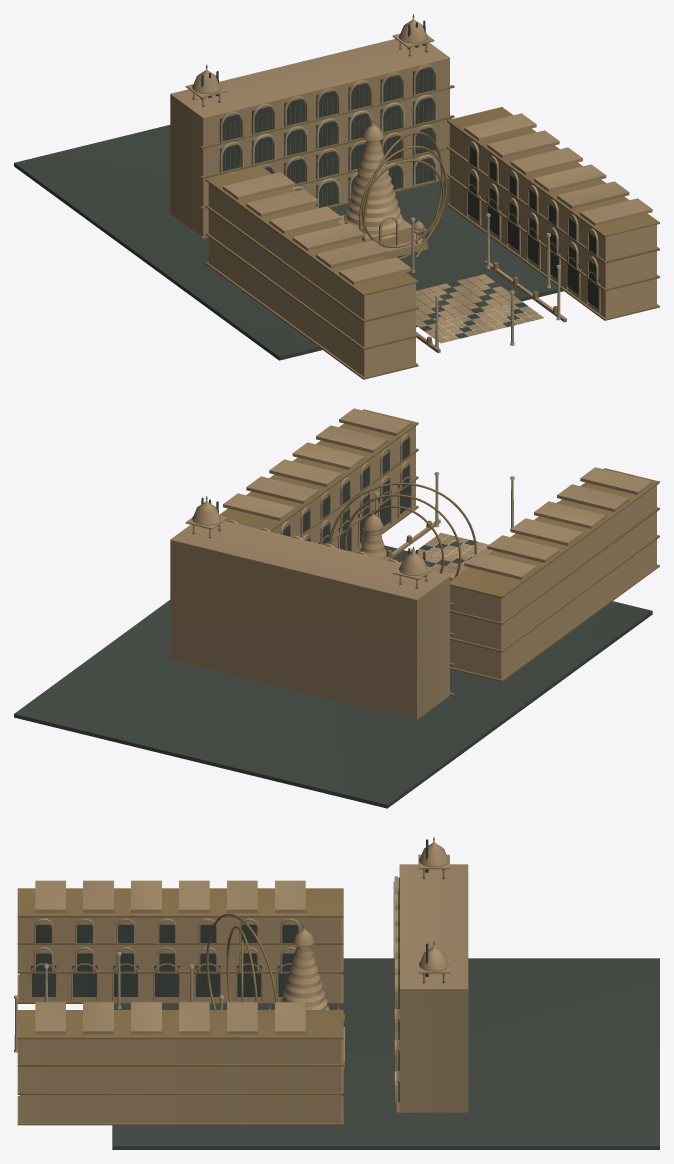
The model's file is arena-30.glb.
The picture shows the model from 3 angles, top to bottom: view 1: azimuth 30°, elevation 25°; view 2: azimuth 150°, elevation 25°; view 3: azimuth 270°, elevation 25°; orthographic projection. The views are drawn at different scales.
Parts seen in each view (by area): view 1: correction-sand, correction-dark, correction-bronze, correction-plaster; view 2: correction-sand, correction-dark, correction-bronze; view 3: correction-sand, correction-dark, correction-bronze, correction-plaster.
Part boxes in pixels (<box>): correction-sand: <box>170,17,656,376</box>; correction-dark: <box>14,20,599,360</box>; correction-bronze: <box>192,14,659,379</box>; correction-plaster: <box>219,94,560,347</box>; correction-sand: <box>170,408,656,719</box>; correction-dark: <box>14,438,652,808</box>; correction-bronze: <box>192,409,659,695</box>; correction-sand: <box>19,841,468,1122</box>; correction-dark: <box>31,839,659,1149</box>; correction-bronze: <box>17,837,445,1125</box>; correction-plaster: <box>14,952,397,1102</box>.
Size of the model in its own units: 65 by 27.19 by 94.35.
